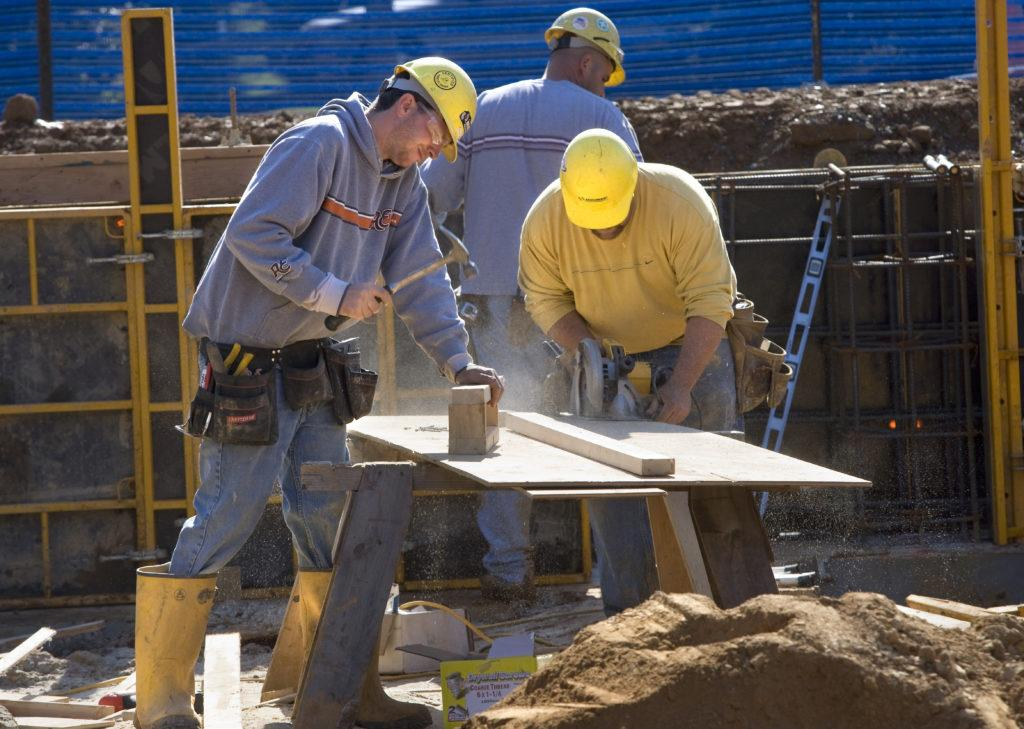helmet: (396, 47, 482, 167), (559, 131, 640, 231), (544, 1, 630, 89)
